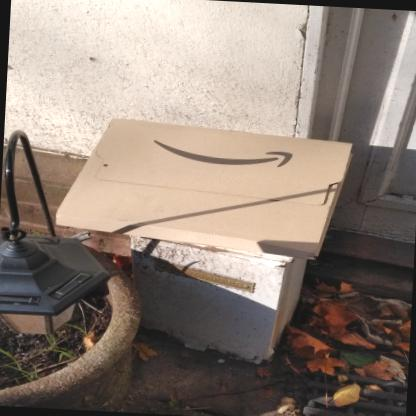box: (54, 117, 356, 262)
